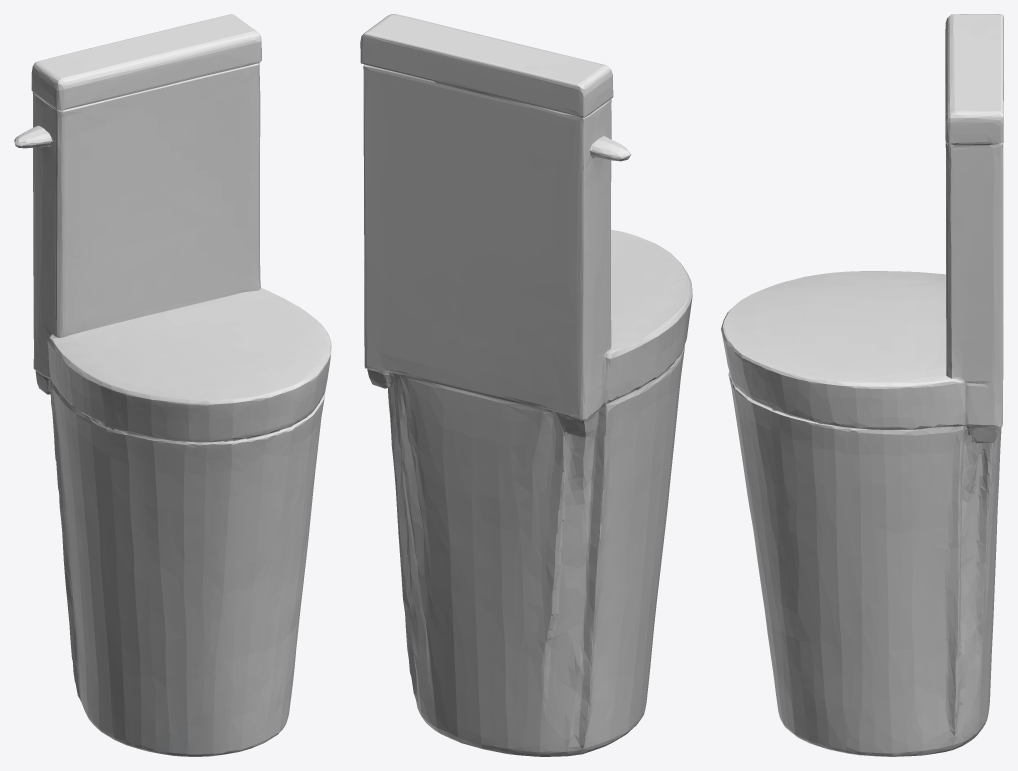
The picture shows the model from 3 angles, left to right: view 1: azimuth 30°, elevation 25°; view 2: azimuth 150°, elevation 25°; view 3: azimuth 270°, elevation 25°; orthographic projection. The views are drawn at different scales.
Visible parts, largest first — view 1: world; view 2: world; view 3: world.
Part boxes in pixels (x1=…): world: x1=14, y1=14, x2=331, y2=756; world: x1=360, y1=14, x2=692, y2=756; world: x1=721, y1=14, x2=1003, y2=756.
Bounding box in the file's own units: 0.4042 × 1 × 0.392.
1 material, 1 textured.
